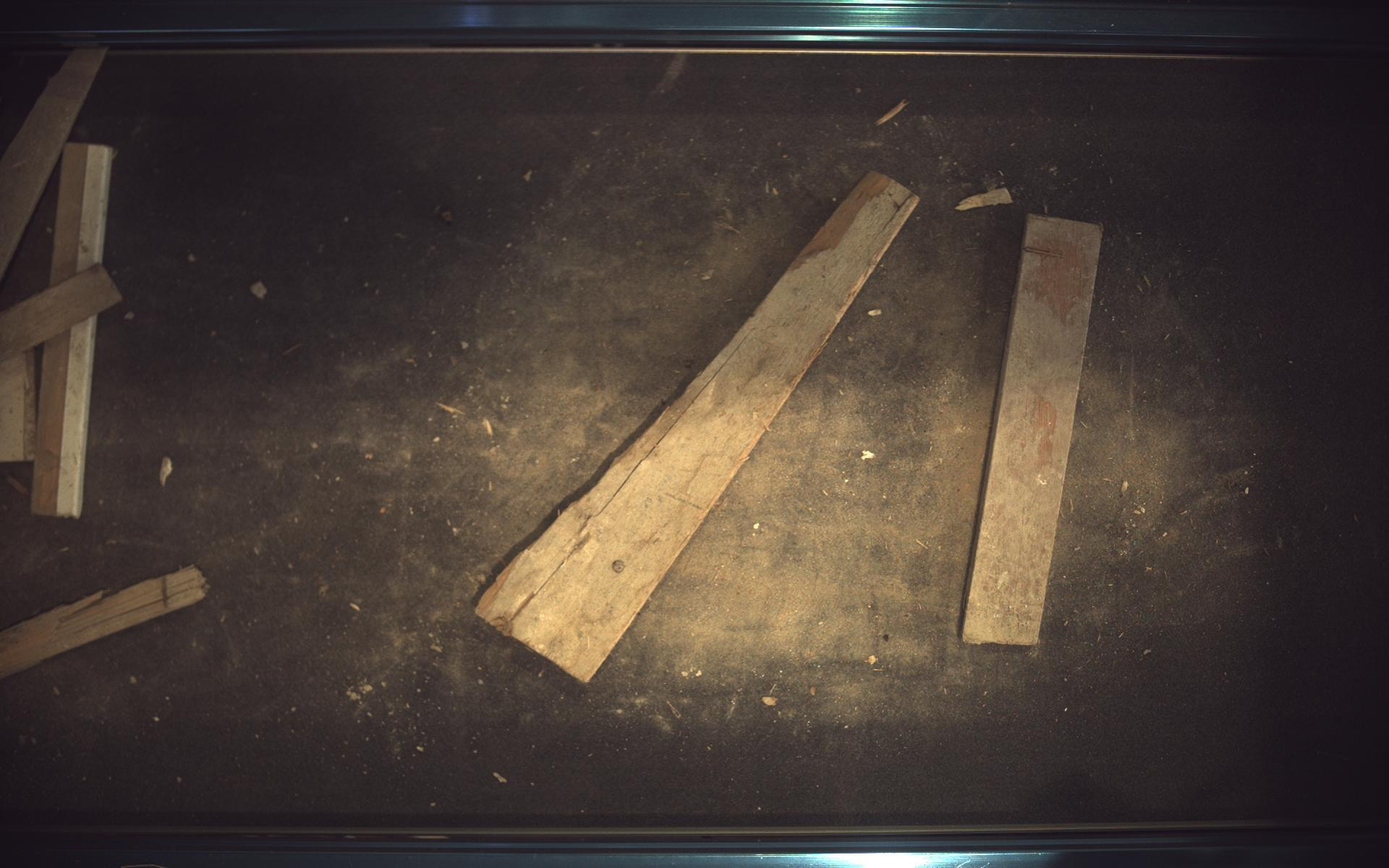wood: (476, 171, 920, 682), (964, 213, 1104, 646), (1, 47, 105, 278), (1, 566, 207, 679), (30, 315, 96, 518), (1, 264, 120, 362), (48, 142, 112, 287), (1, 350, 35, 462)
